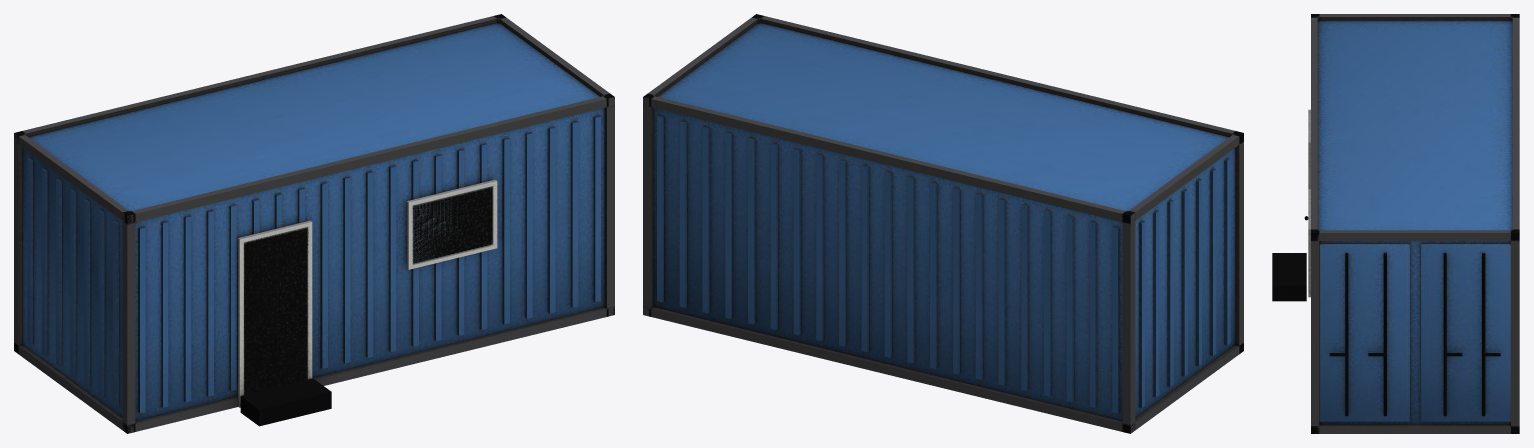
File: container.glb
3 renders of one model, left to right at view 1: azimuth 30°, elevation 25°; view 2: azimuth 150°, elevation 25°; view 3: azimuth 270°, elevation 25°, orthographic. The views are drawn at different scales.
Visible parts, largest first — view 1: bar-10.35, win_glass; view 2: bar-10.35; view 3: bar-10.35.
Part boxes in pixels (box(x1,y1,x2,y2)): bar-10.35: box(14, 14, 614, 433); win_glass: box(412, 197, 461, 264); bar-10.35: box(643, 14, 1243, 433); bar-10.35: box(1272, 14, 1519, 433).
Bounding box in the file's own units: 6.14 × 2.64 × 2.89.
Materials: 2 (1 with a texture image).
